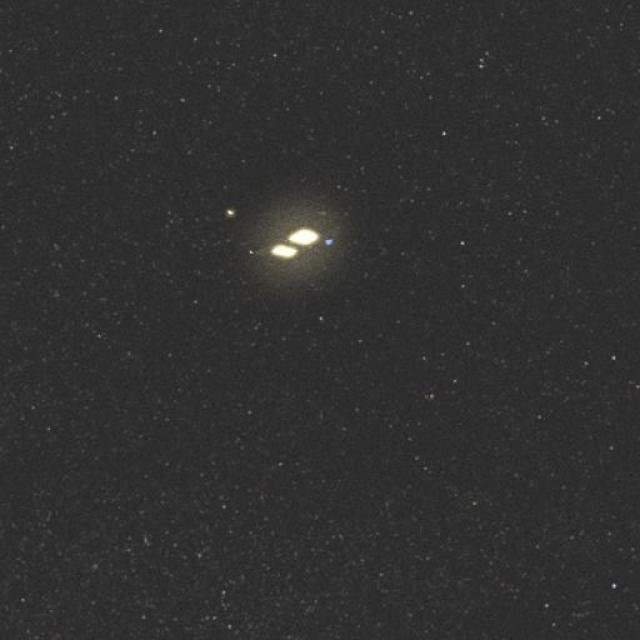proba_3_ocs: (199, 170, 361, 318)
